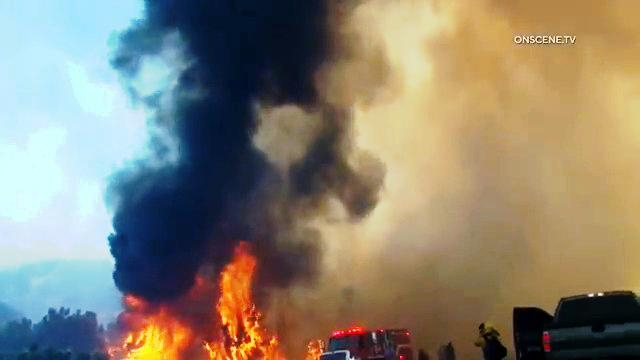fire: (127, 231, 285, 360)
smoke: (116, 56, 635, 231), (137, 0, 354, 240)
